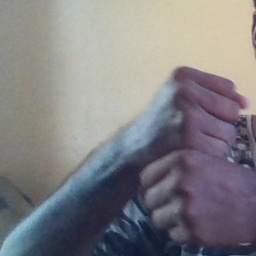G: (140, 61, 250, 247)
